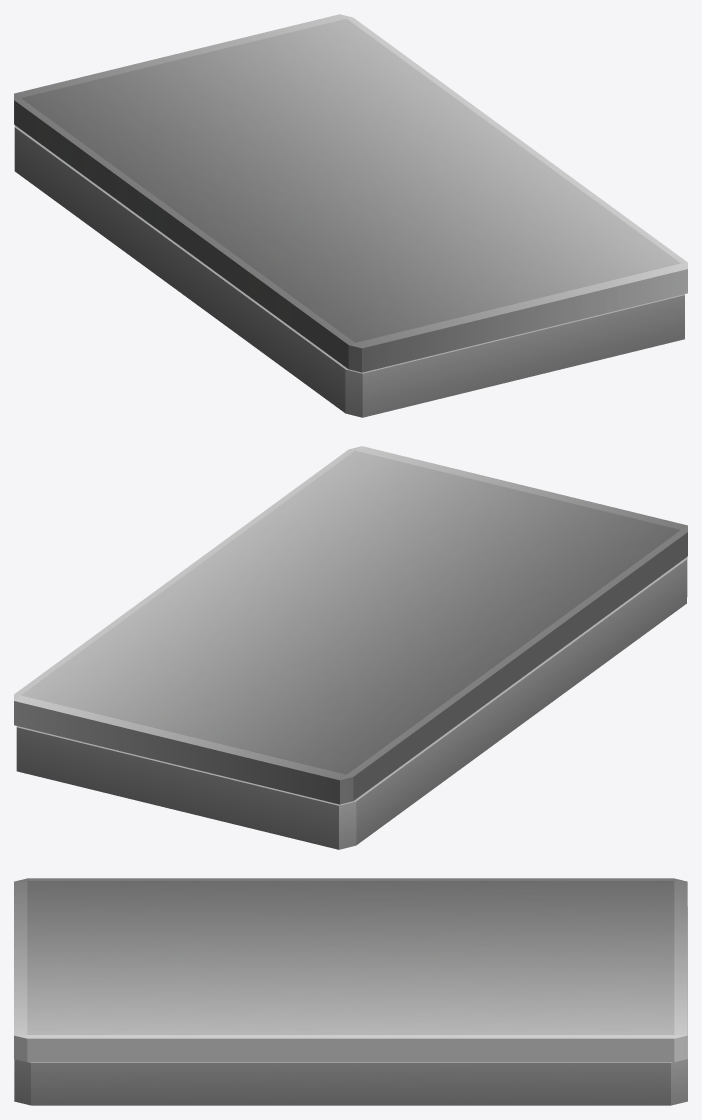
File: LaptopOpen.fbx
3 renders of one model, top to bottom at view 1: azimuth 30°, elevation 25°; view 2: azimuth 150°, elevation 25°; view 3: azimuth 270°, elevation 25°, orthographic. The views are drawn at different scales.
Parts seen in each view (by area): view 1: LaptopTop, LaptopBottom; view 2: LaptopTop, LaptopBottom; view 3: LaptopTop, LaptopBottom.
Part boxes in pixels (x1=…): LaptopTop: x1=14, y1=14, x2=687, y2=372; LaptopBottom: x1=14, y1=125, x2=684, y2=417; LaptopTop: x1=14, y1=446, x2=687, y2=804; LaptopBottom: x1=16, y1=557, x2=687, y2=849; LaptopTop: x1=14, y1=878, x2=687, y2=1062; LaptopBottom: x1=14, y1=907, x2=687, y2=1105.
Size of the model in its own units: 68.62 by 13.76 by 122.
1 material, 1 textured.
